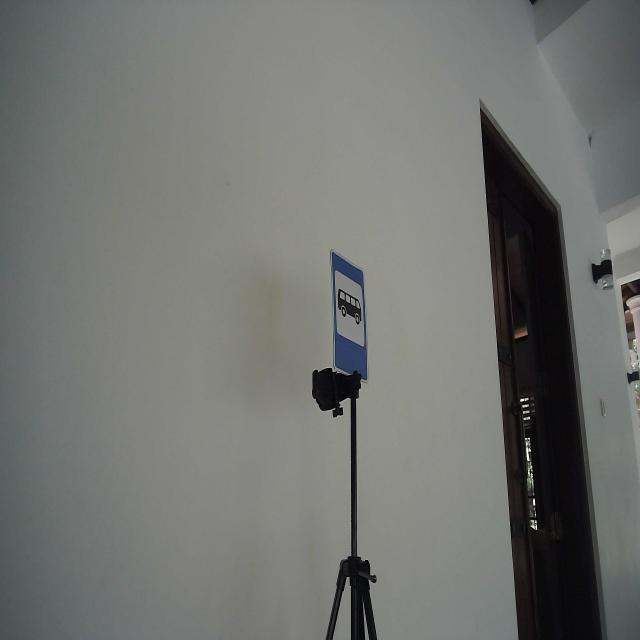bus_stop: (328, 246, 369, 382)
